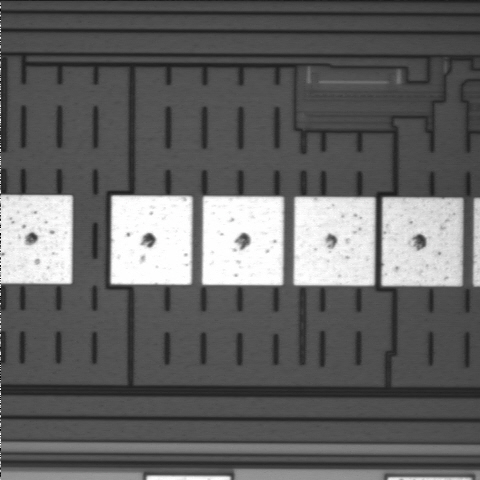pad: (202, 196, 284, 285), (111, 196, 192, 285), (294, 197, 375, 286), (382, 198, 463, 286)
